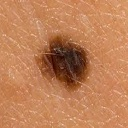Melanoma: (39, 41, 88, 91)
